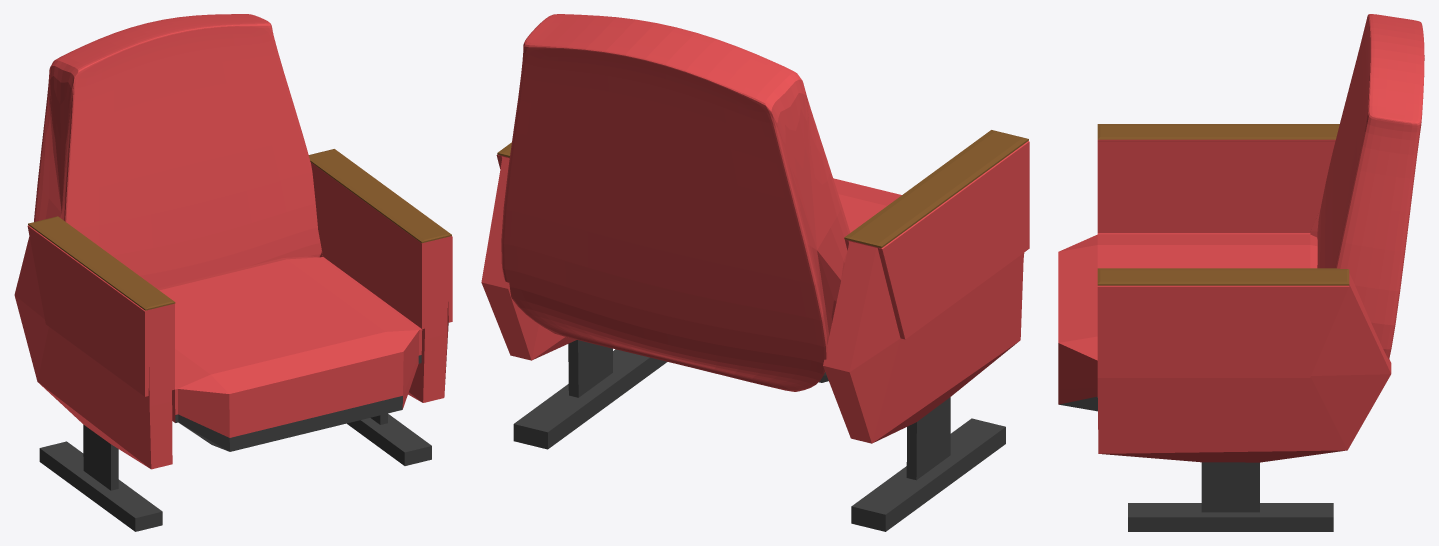
File: Chair.fbx
The picture shows the model from 3 angles, left to right: view 1: azimuth 30°, elevation 25°; view 2: azimuth 150°, elevation 25°; view 3: azimuth 270°, elevation 25°; orthographic projection. The views are drawn at different scales.
Parts seen in each view (by area): view 1: Chair, Cushin; view 2: Cushin, Chair; view 3: Chair, Cushin.
Boxes of the visible parts, box(x1,y1,x2,y2) form: Chair: box(14, 149, 452, 531); Cushin: box(34, 14, 321, 288); Cushin: box(501, 14, 850, 391); Chair: box(481, 130, 1029, 531); Chair: box(1058, 124, 1391, 531); Cushin: box(1317, 14, 1424, 359).
Size of the model in its own units: 262 by 308 by 252.
